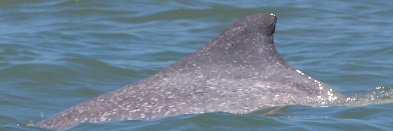fin: (26, 10, 361, 131)
